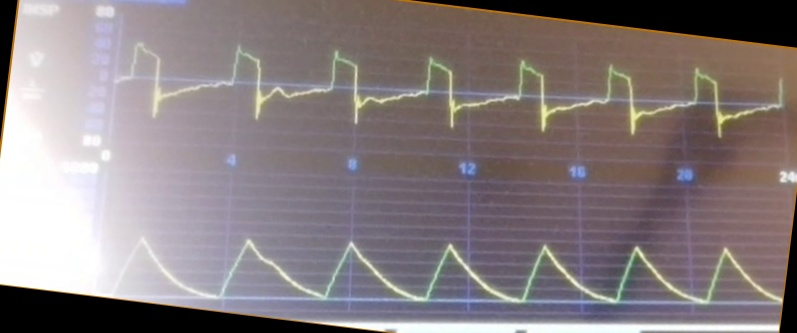Premature_cycling Flow: (120, 41, 781, 141)
Premature_cycling Volume: (112, 231, 780, 309)
